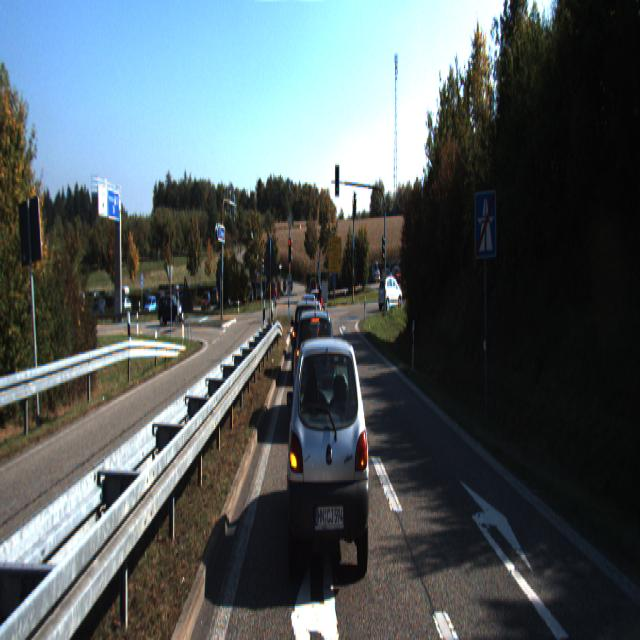Car: (286, 322, 375, 591), (292, 307, 338, 437), (378, 276, 402, 310)
DontCare: (88, 283, 219, 325), (304, 270, 339, 304), (368, 260, 407, 284), (243, 281, 276, 300)
